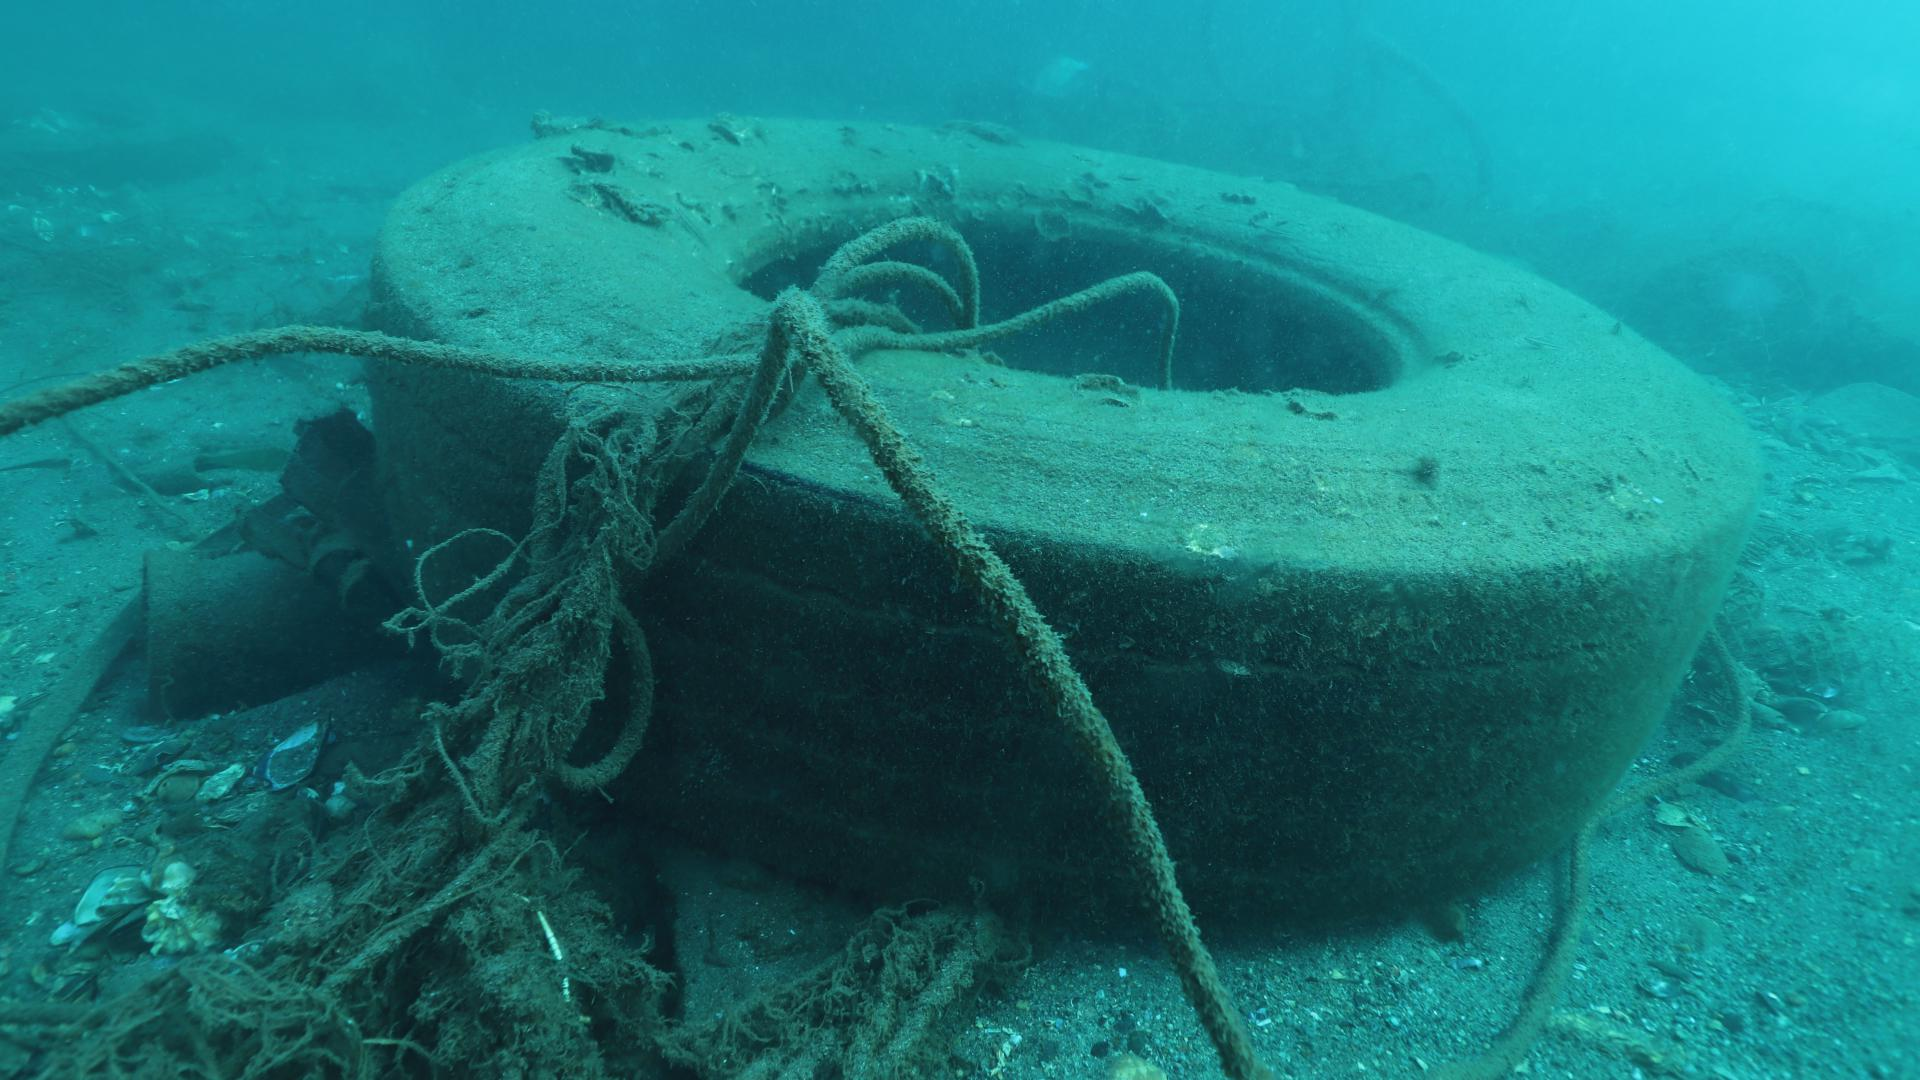bundle of ropes: (0, 208, 1266, 1080)
tire: (368, 109, 1764, 943)
